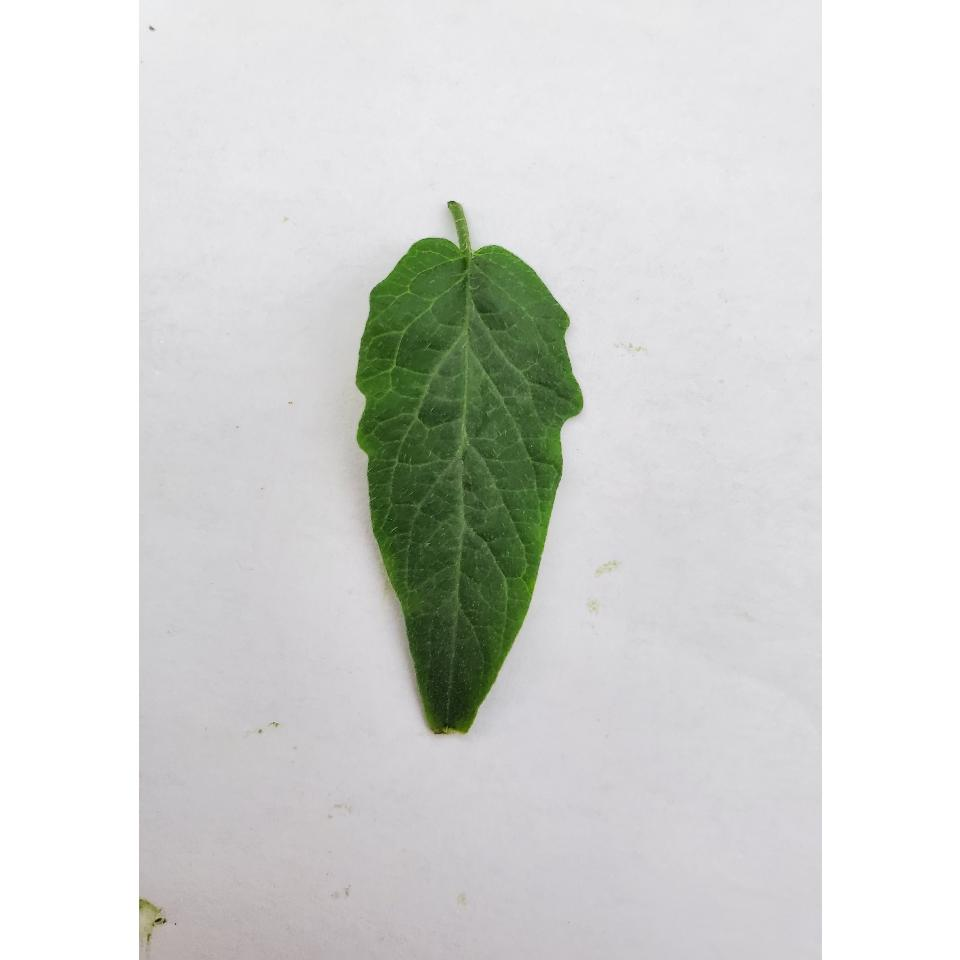tomato_leaves: (360, 190, 574, 746)
